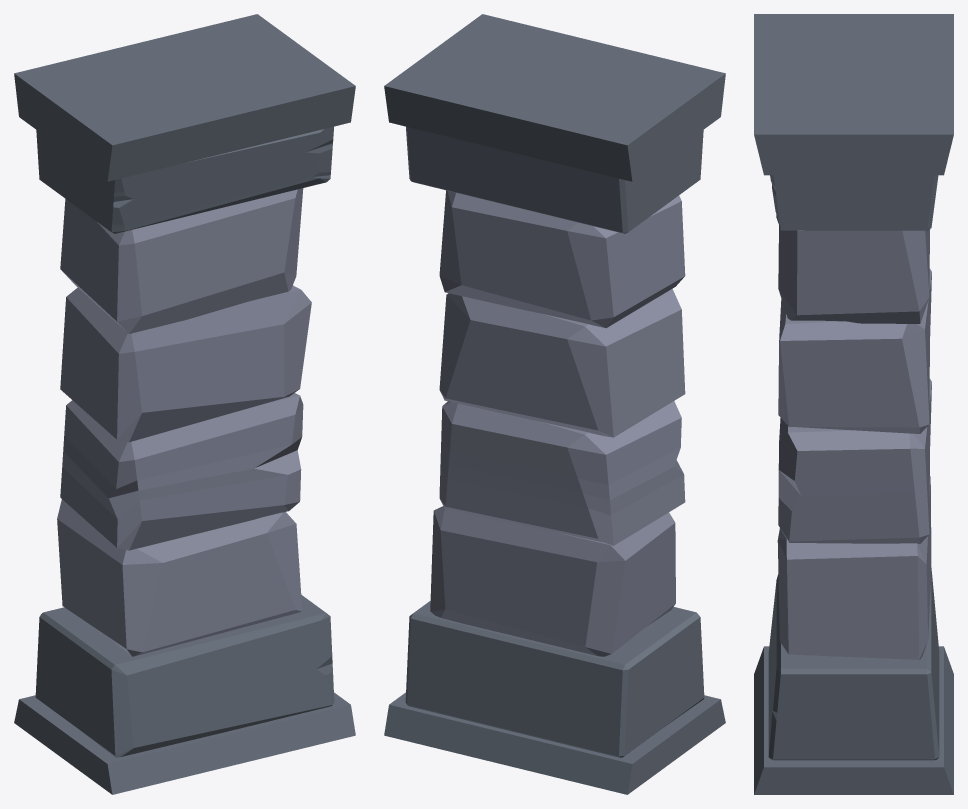
File: Square_Column.fbx
The picture shows the model from 3 angles, left to right: view 1: azimuth 30°, elevation 25°; view 2: azimuth 150°, elevation 25°; view 3: azimuth 270°, elevation 25°; orthographic projection.
Parts seen in each view (by area): view 1: Columna_Cuadrada; view 2: Columna_Cuadrada; view 3: Columna_Cuadrada.
Part boxes in pixels (box(x1,y1,x2,y2)): Columna_Cuadrada: box(14, 14, 355, 794); Columna_Cuadrada: box(384, 14, 725, 794); Columna_Cuadrada: box(754, 14, 953, 794).
Bounding box in the file's own units: 200 × 510 × 140.
